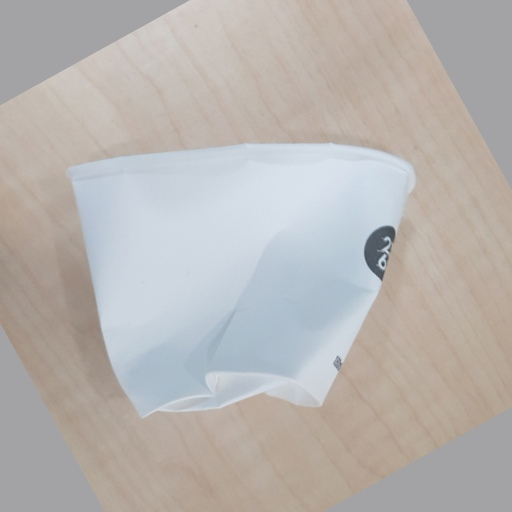Paper_1: (63, 143, 415, 417)
